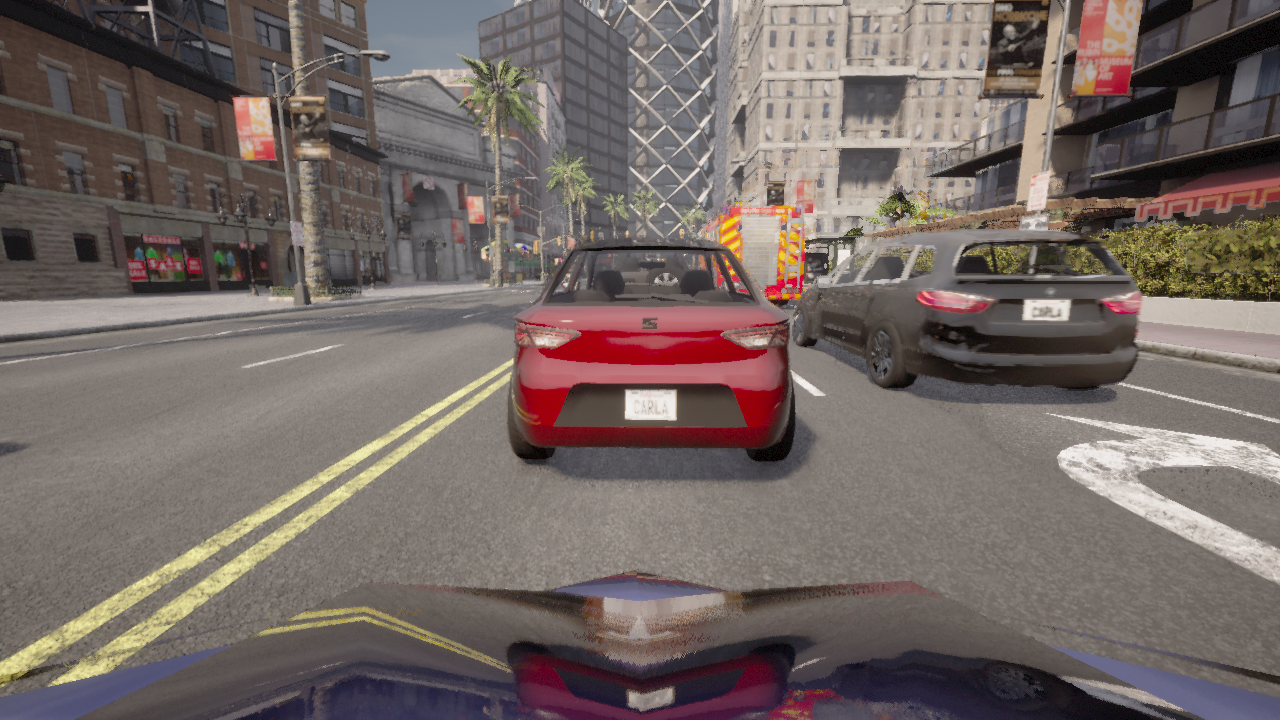cyclist: (0, 569, 1279, 719), (507, 238, 795, 461), (793, 230, 1141, 389), (697, 192, 804, 306)
pedestrian: (808, 284, 810, 286)
